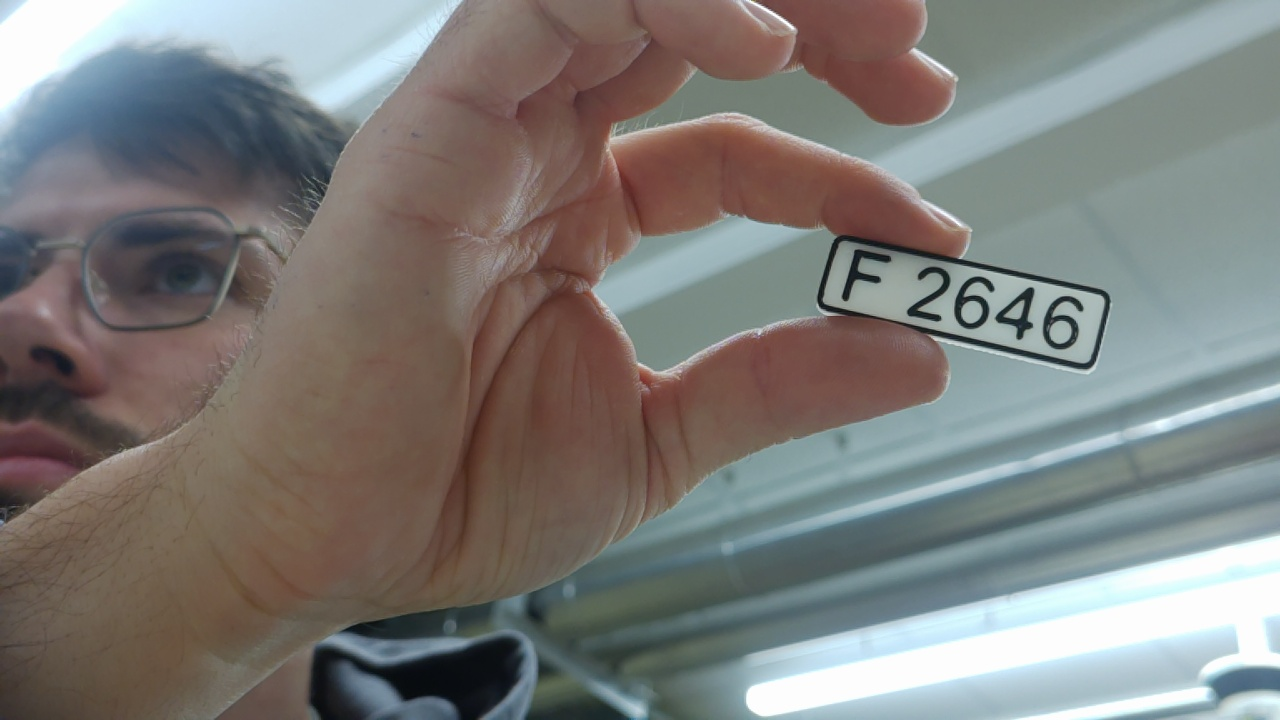license_plate: (815, 219, 1112, 381)
